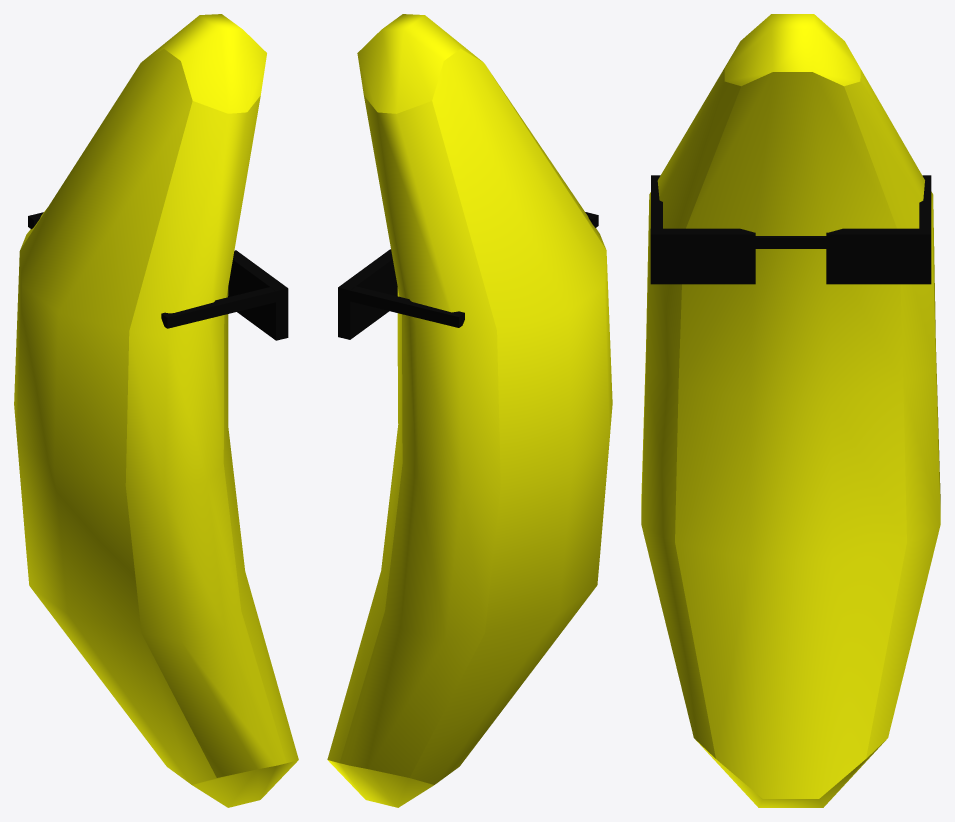
The model's file is Banana.fbx.
3 renders of one model, left to right at view 1: azimuth 30°, elevation 25°; view 2: azimuth 150°, elevation 25°; view 3: azimuth 270°, elevation 25°, orthographic.
Parts seen in each view (by area): view 1: pCube1, pCube2, pCube5; view 2: pCube1, pCube3, pCube6; view 3: pCube1, pCube2, pCube3, pCube4, pCube6, pCube5.
Part boxes in pixels (<box>): pCube1: <box>14,14,298,807</box>; pCube2: <box>228,250,288,340</box>; pCube5: <box>161,287,275,328</box>; pCube1: <box>327,14,612,807</box>; pCube3: <box>338,249,397,339</box>; pCube6: <box>350,286,464,327</box>; pCube1: <box>641,14,940,807</box>; pCube2: <box>650,228,755,284</box>; pCube3: <box>826,228,931,284</box>; pCube4: <box>755,236,826,248</box>; pCube6: <box>919,175,931,228</box>; pCube5: <box>651,175,662,228</box>.
Bounding box in the file's own units: 16.53 × 48.97 × 17.09.
